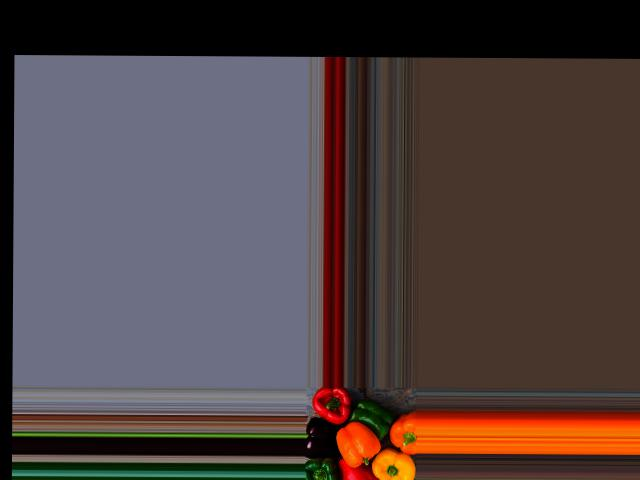bell_pepper: (380, 400, 416, 453)
